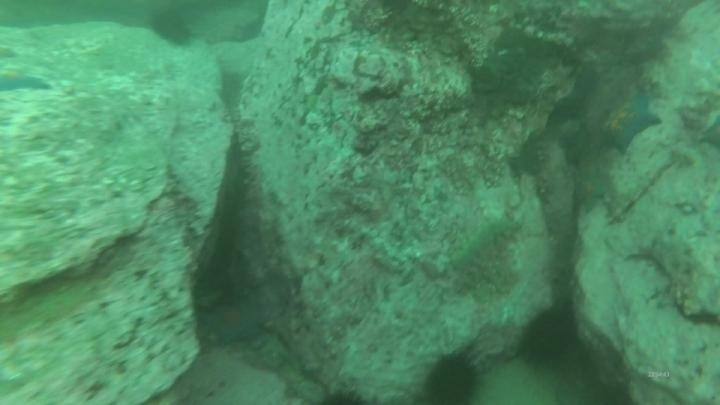echinus: (516, 305, 580, 369), (420, 350, 485, 404), (147, 8, 196, 49)
holothurian: (445, 214, 520, 272)
starfish: (598, 89, 663, 155), (201, 297, 267, 347), (572, 168, 611, 211), (0, 67, 54, 95), (696, 110, 720, 154)
